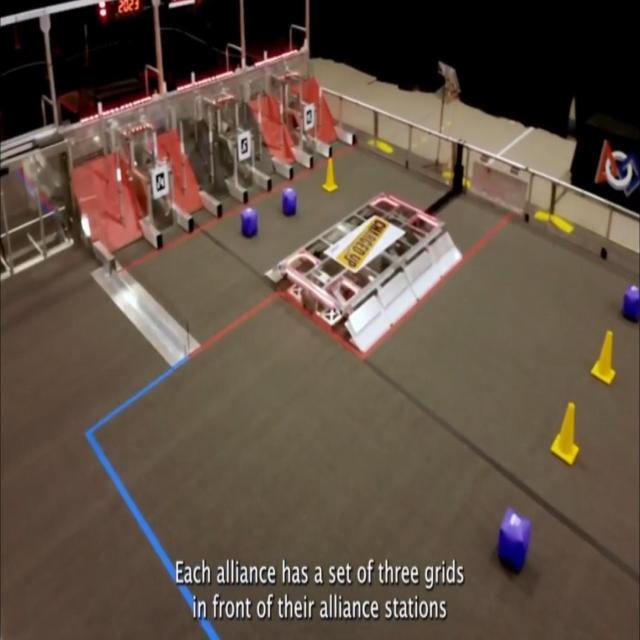frc_cone: (550, 402, 579, 466), (590, 330, 616, 386), (322, 157, 337, 193)
frc_cube: (496, 507, 531, 575), (239, 208, 258, 240), (623, 285, 639, 321), (281, 188, 297, 216)
